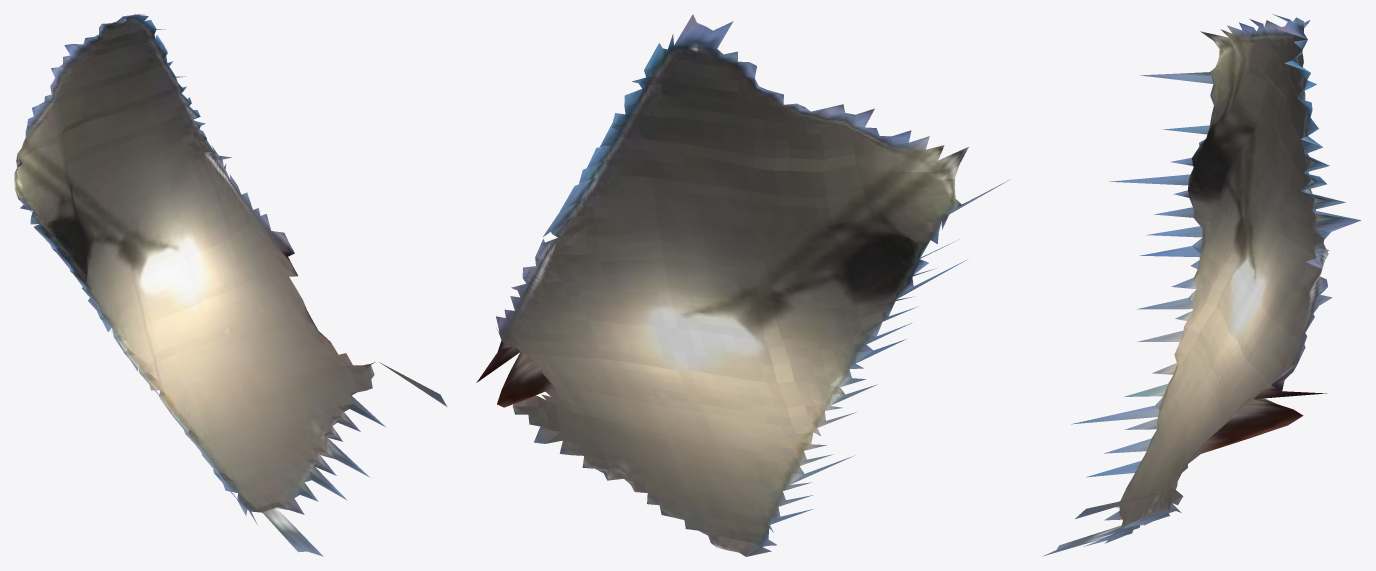
Rendered from observed-surface.glb.
3 views of the same model, side by side, from view 1: azimuth 30°, elevation 25°; view 2: azimuth 150°, elevation 25°; view 3: azimuth 270°, elevation 25° (orthographic). The views are drawn at different scales.
Parts seen in each view (by area): view 1: geometry_0; view 2: geometry_0; view 3: geometry_0.
Part boxes in pixels (x1,y1,x2,y2): geometry_0: (14, 14, 447, 556); geometry_0: (476, 14, 1008, 556); geometry_0: (1043, 14, 1360, 556).
Bounding box in the file's own units: 0.3815 × 0.4715 × 0.2753.
1 material, 1 textured.
